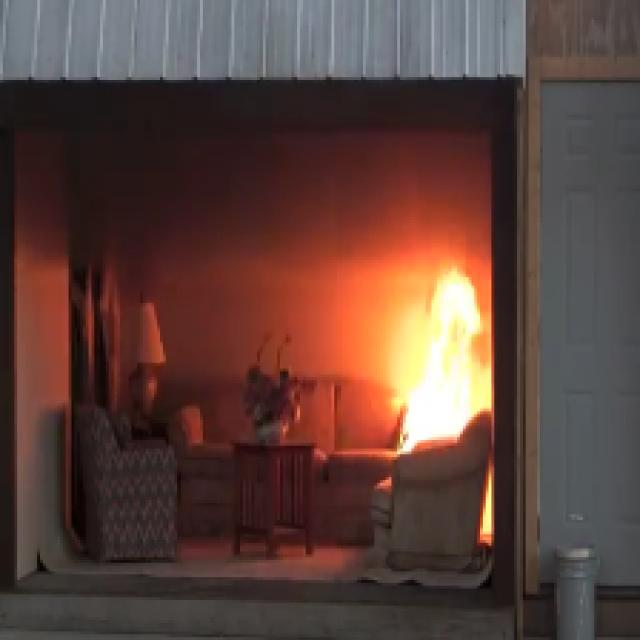fire: (406, 272, 486, 432)
